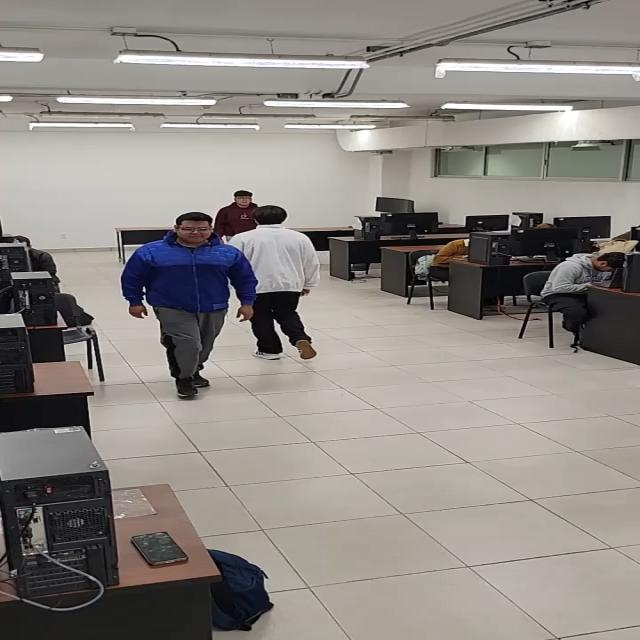Persona: (124, 208, 250, 394), (235, 204, 318, 363), (213, 184, 270, 239)
